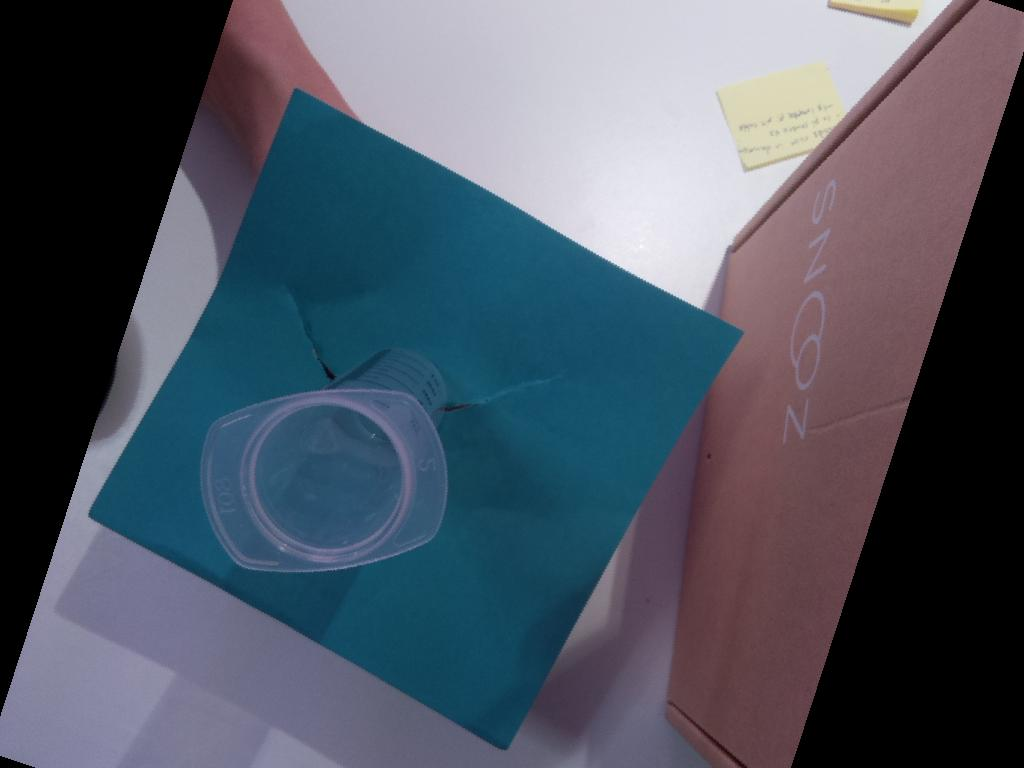clean: (199, 388, 453, 573)
